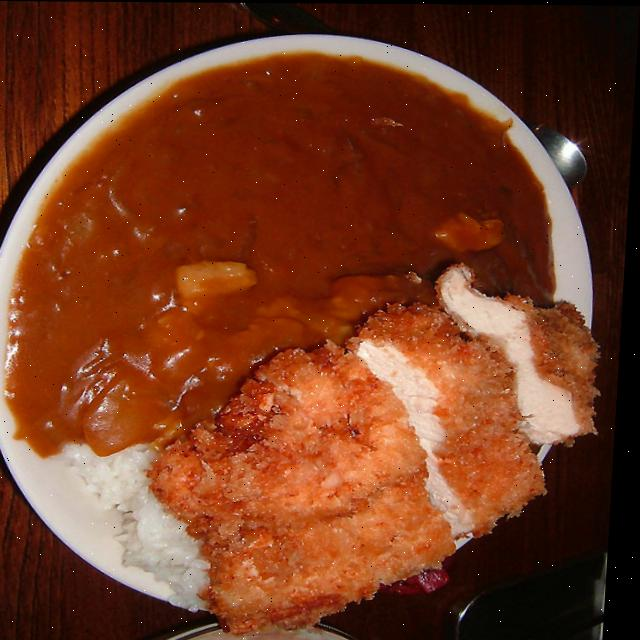猪肉菜式: (0, 26, 637, 640)
